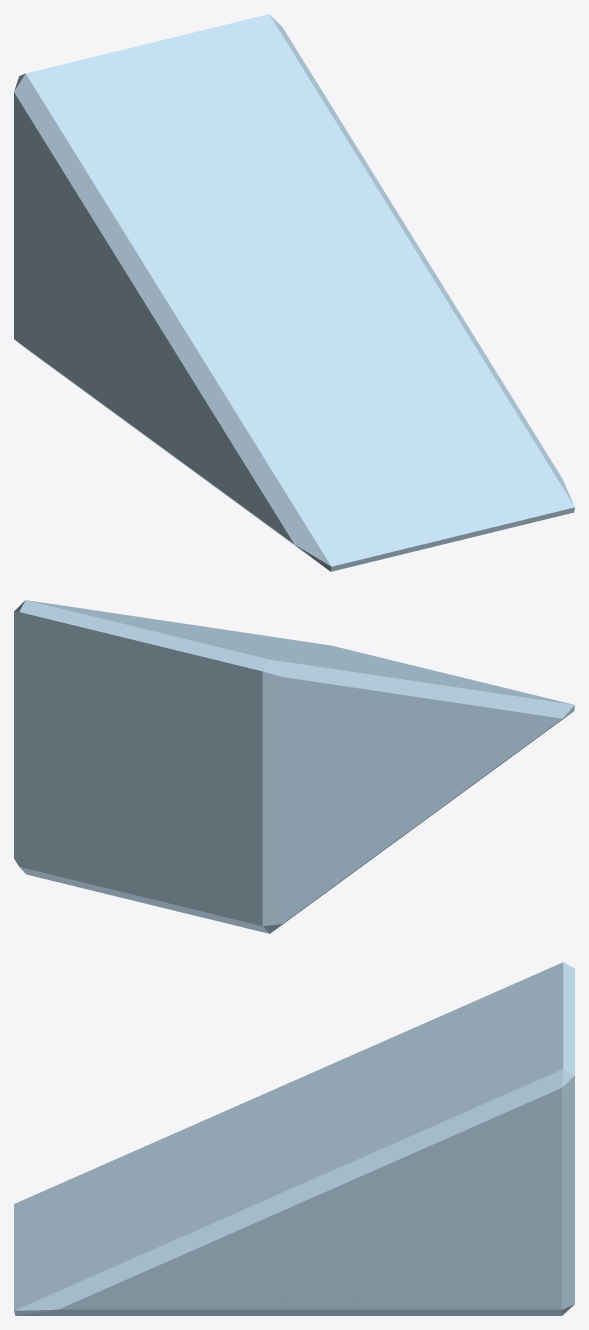
Rendered from R4B_LongWedge_LOD1.glb.
3 renders of one model, top to bottom at view 1: azimuth 30°, elevation 25°; view 2: azimuth 150°, elevation 25°; view 3: azimuth 270°, elevation 25°, orthographic. The views are drawn at different scales.
Visible parts, largest first — view 1: R4B_LongWedge_LOD1; view 2: R4B_LongWedge_LOD1; view 3: R4B_LongWedge_LOD1.
Boxes of the visible parts, <box> form: R4B_LongWedge_LOD1: <box>14,14,574,571</box>; R4B_LongWedge_LOD1: <box>14,600,574,933</box>; R4B_LongWedge_LOD1: <box>14,962,574,1315</box>.
Bounding box in the file's own units: 0.52 × 0.5095 × 1.05.
